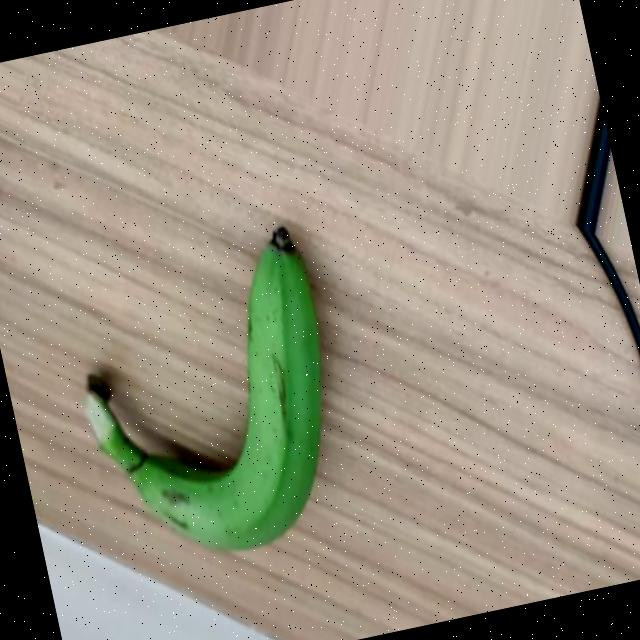Unripe: (54, 218, 361, 574)
